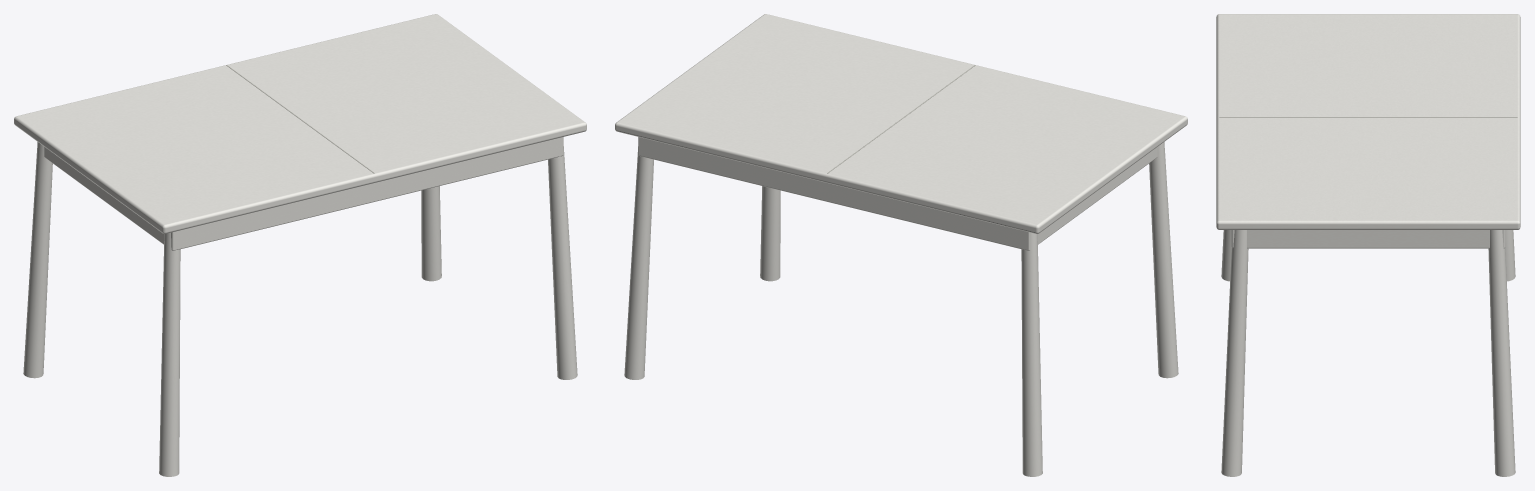
Rendered from nasinge.glb.
3 renders of one model, left to right at view 1: azimuth 30°, elevation 25°; view 2: azimuth 150°, elevation 25°; view 3: azimuth 270°, elevation 25°, orthographic.
Parts seen in each view (by area): view 1: NÄSINGE Extendable table, closed; view 2: NÄSINGE Extendable table, closed; view 3: NÄSINGE Extendable table, closed.
Boxes of the visible parts, x1,y1,x2,y2 form: NÄSINGE Extendable table, closed: (14,14,586,476); NÄSINGE Extendable table, closed: (615,14,1187,476); NÄSINGE Extendable table, closed: (1216,14,1520,476).
Size of the model in its own units: 1.3 by 0.75 by 0.8.
Materials: 2 (2 with a texture image).
